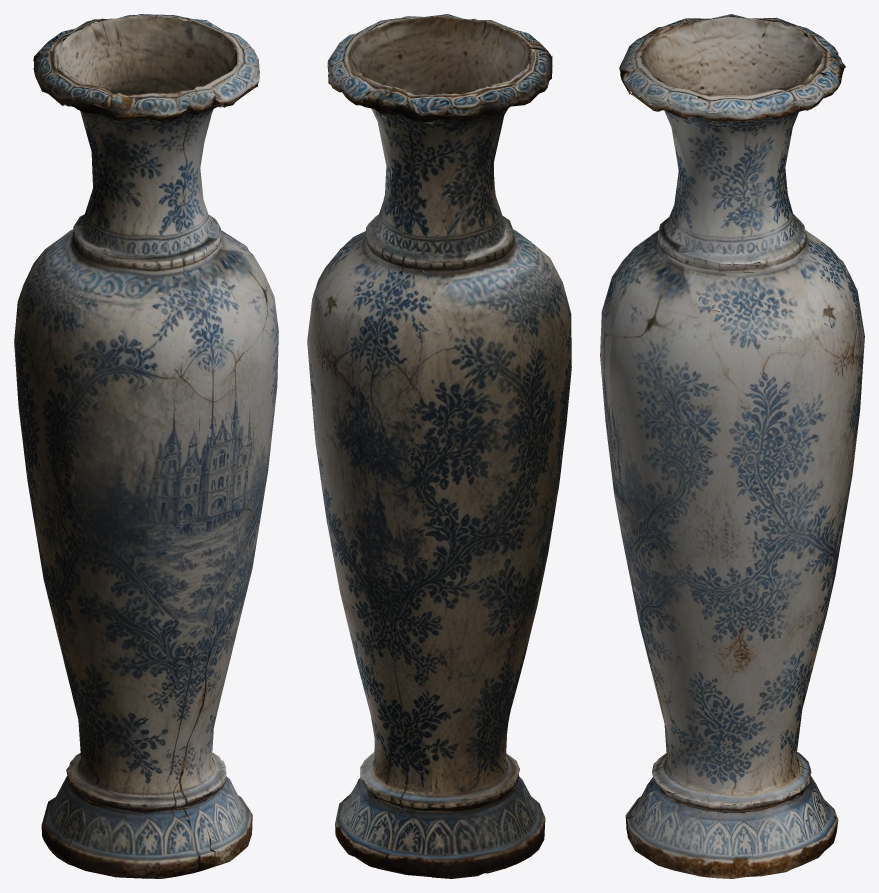
The model's file is Vase.fbx.
3 renders of one model, left to right at view 1: azimuth 30°, elevation 25°; view 2: azimuth 150°, elevation 25°; view 3: azimuth 270°, elevation 25°, orthographic.
Parts seen in each view (by area): view 1: Vase; view 2: Vase; view 3: Vase.
Boxes of the visible parts, x1,y1,x2,y2 form: Vase: (14,14,278,878); Vase: (307,14,571,878); Vase: (600,14,864,878).
Bounding box in the file's own units: 30.5 × 100 × 30.84.
1 material, 1 textured.
